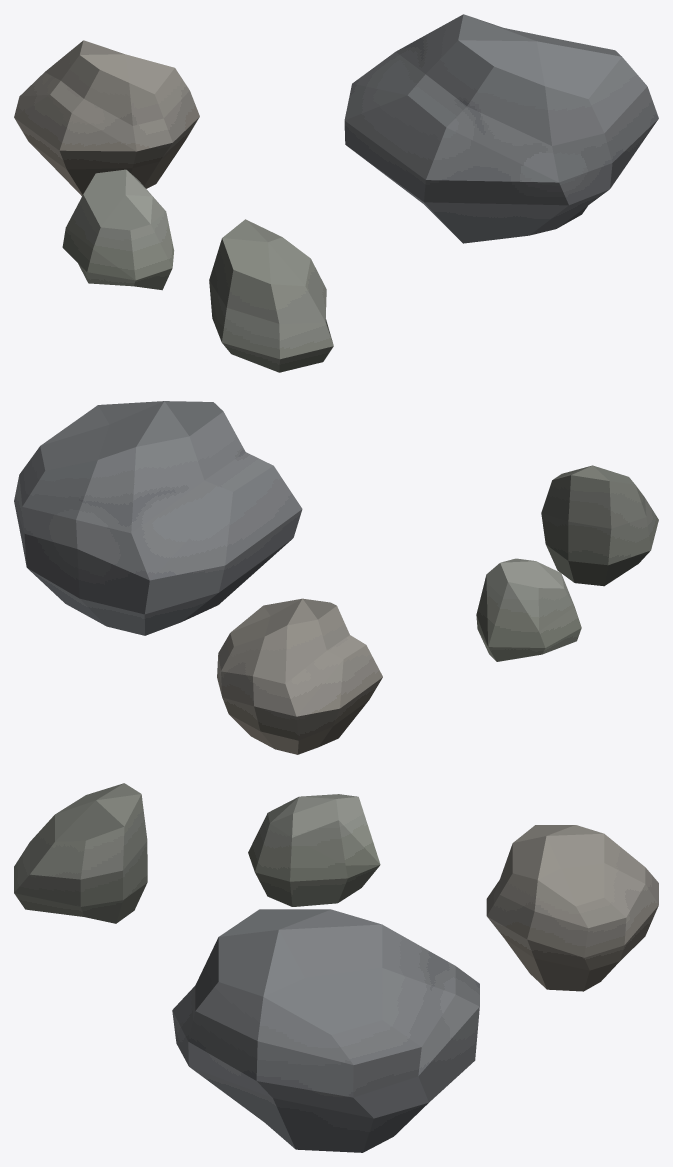
The model's file is rocks mid.gltf.
3 renders of one model, top to bottom at view 1: azimuth 30°, elevation 25°; view 2: azimuth 150°, elevation 25°; view 3: azimuth 270°, elevation 25°, orthographic. The views are drawn at different scales.
Parts seen in each view (by area): view 1: sphere (×3), cylinder; view 2: sphere (×3), cylinder; view 3: sphere (×3), cylinder.
Boxes of the visible parts, x1,y1,x2,y2 form: sphere (×3): (14, 14, 658, 290); cylinder: (209, 219, 333, 372); sphere (×3): (14, 401, 581, 754); cylinder: (541, 465, 658, 586); sphere (×3): (172, 794, 658, 1152); cylinder: (14, 783, 147, 923).
Bounding box in the file's own units: 8.93 × 2.98 × 8.78.
Materials: 1 (1 with a texture image).
